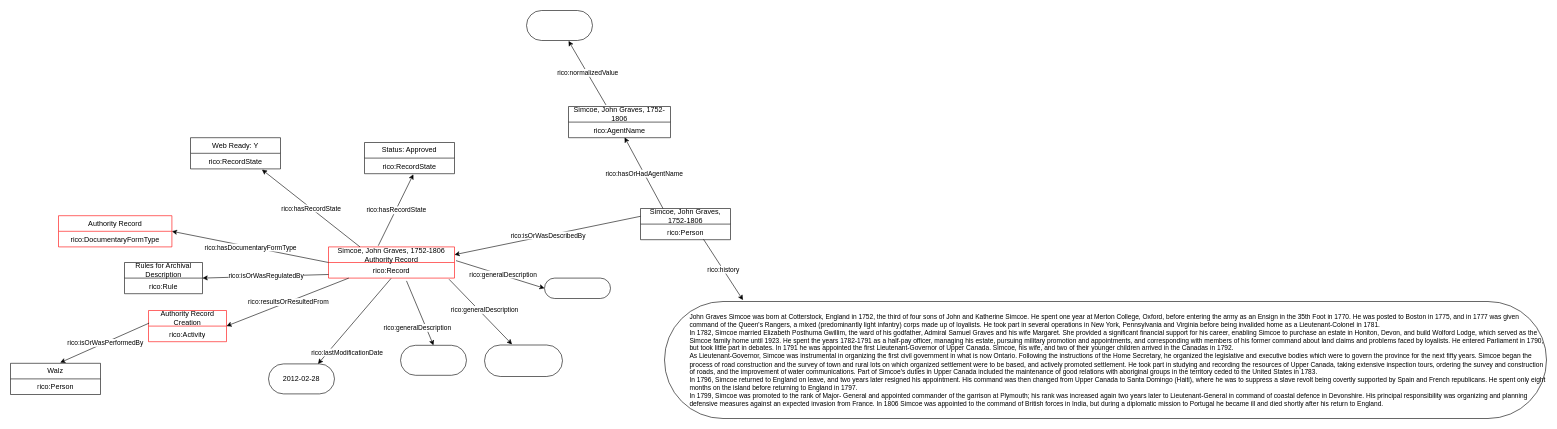
The diagram is 1557 pixels wide and 429 high, and some of its shapes have lost their labels. Each missing label, with the centre of its shape:
John Graves Simcoe: the point at 559,25
Source Note: AMICUS.: the point at 577,288
Source Note: Archives of Ontario, fonds 47.: the point at 433,360
Source Note: Dictionary of Canadian Biography.: the point at 523,360
